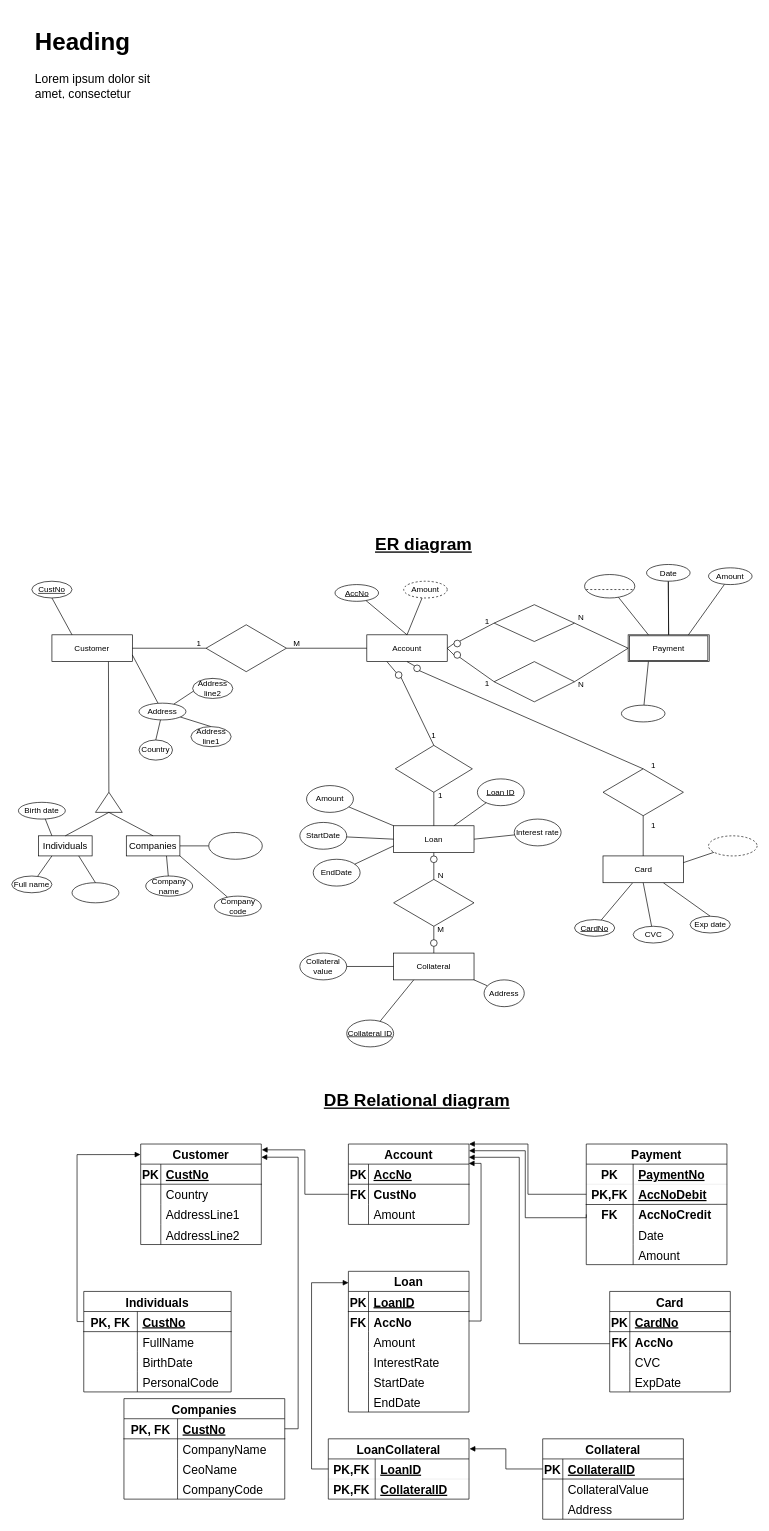
Image size: 769x1531. Some labels were removed from this diagram. The shapes that lost their labels are listed below. From the top down, each one's centre as x and y in pixels, then its label:
At point 609,586: "Payment No".
At point 534,623: "Credited".
At point 245,648: "Owns".
At point 534,681: "Debited".
At point 643,713: "Description".
At point 433,768: "Serves".
At point 642,792: "Managed by".
At point 235,845: "CEO full name".
At point 732,845: "Customer Name".
At point 95,892: "Personal code".
At point 433,902: "Secured by".
